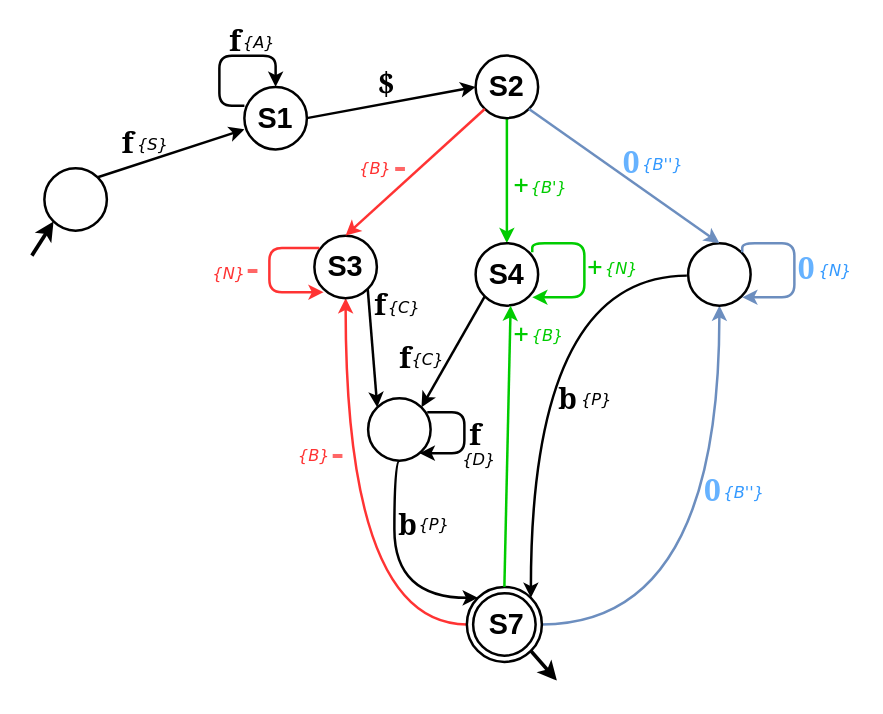
This 883x714 diagram has some shape labels left out. The shapes that lost their labels are listed below. From the top down, each one's box as (x1, y1, x2, y2) in pixels, then its label:
(42, 166, 108, 231): S0
(686, 241, 751, 306): S5
(366, 396, 431, 461): S6
